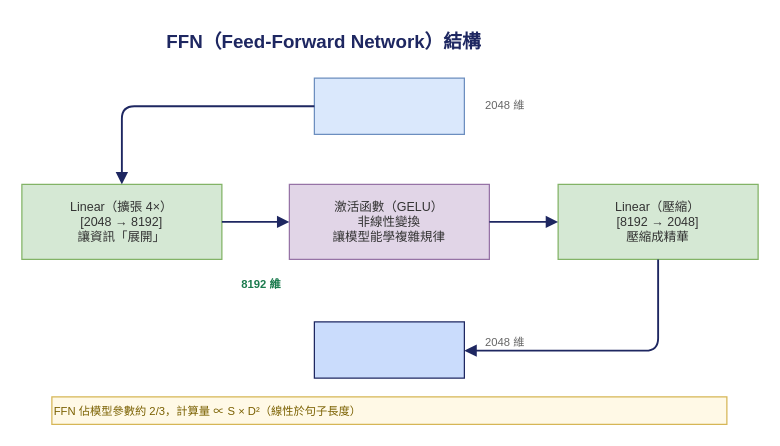
Some shapes in this 780 by 446 pixel diagram are drawn without their labels. The shapes that lost their labels are listed below. From the top down, each one's centre as x and y in pixels, then its label:
At (x=388, y=105): "輸入 x [S, 2048]".
At (x=388, y=349): "輸出 [S, 2048]".
